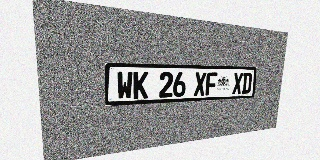2: (159, 72, 173, 98)
6: (173, 72, 186, 97)
D: (242, 73, 252, 94)
F: (205, 72, 217, 95)
K: (133, 71, 148, 99)
W: (117, 71, 133, 100)
X: (194, 72, 206, 96), (232, 73, 243, 94)
